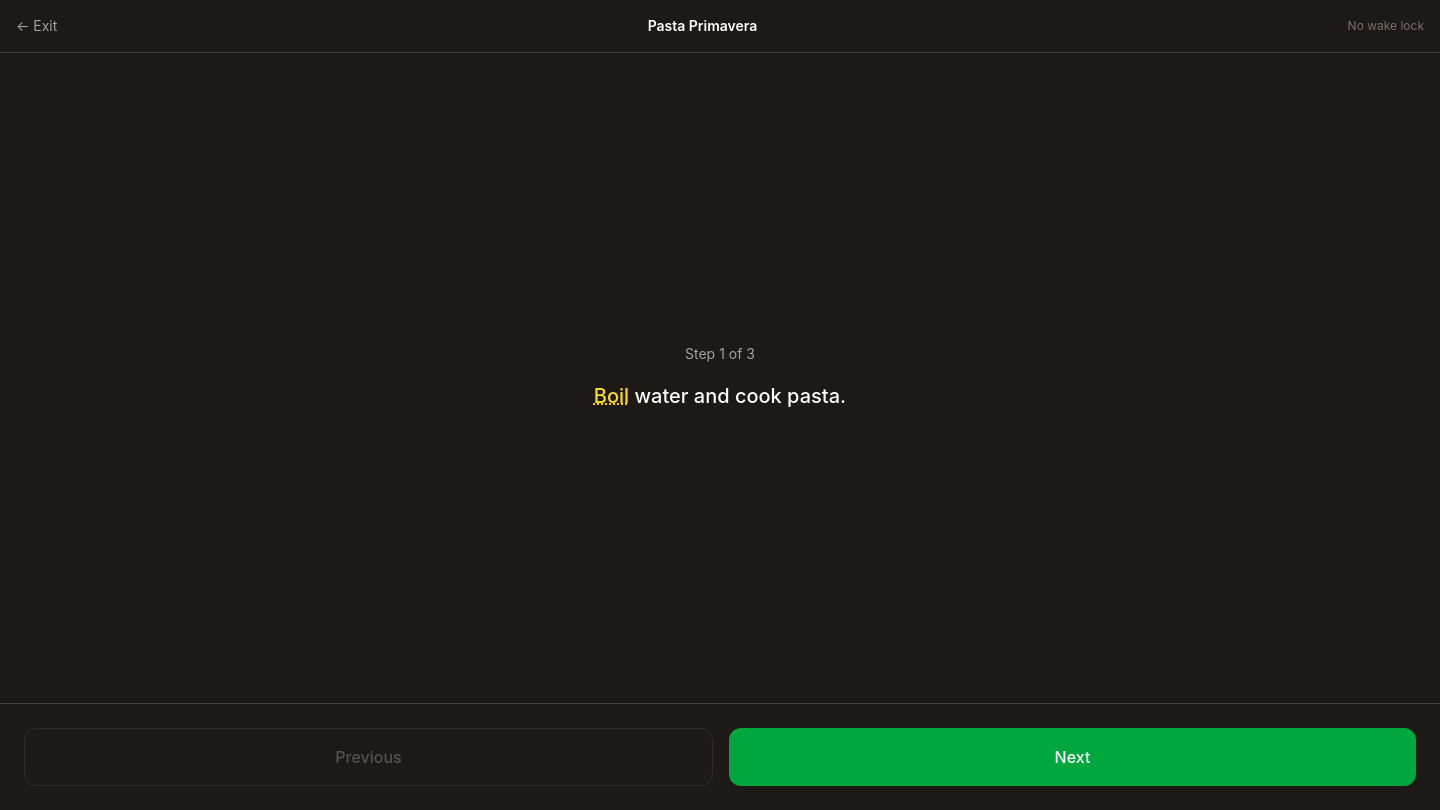
Scenario: CookingView › Next advances to step 2
This screenshot has width=1440, height=810.
Check: the element with test id "cooking-step" is shown, box [594,380,846,412]
Click the button "Next".
click(1072, 757)  # box [729,728,1416,786]
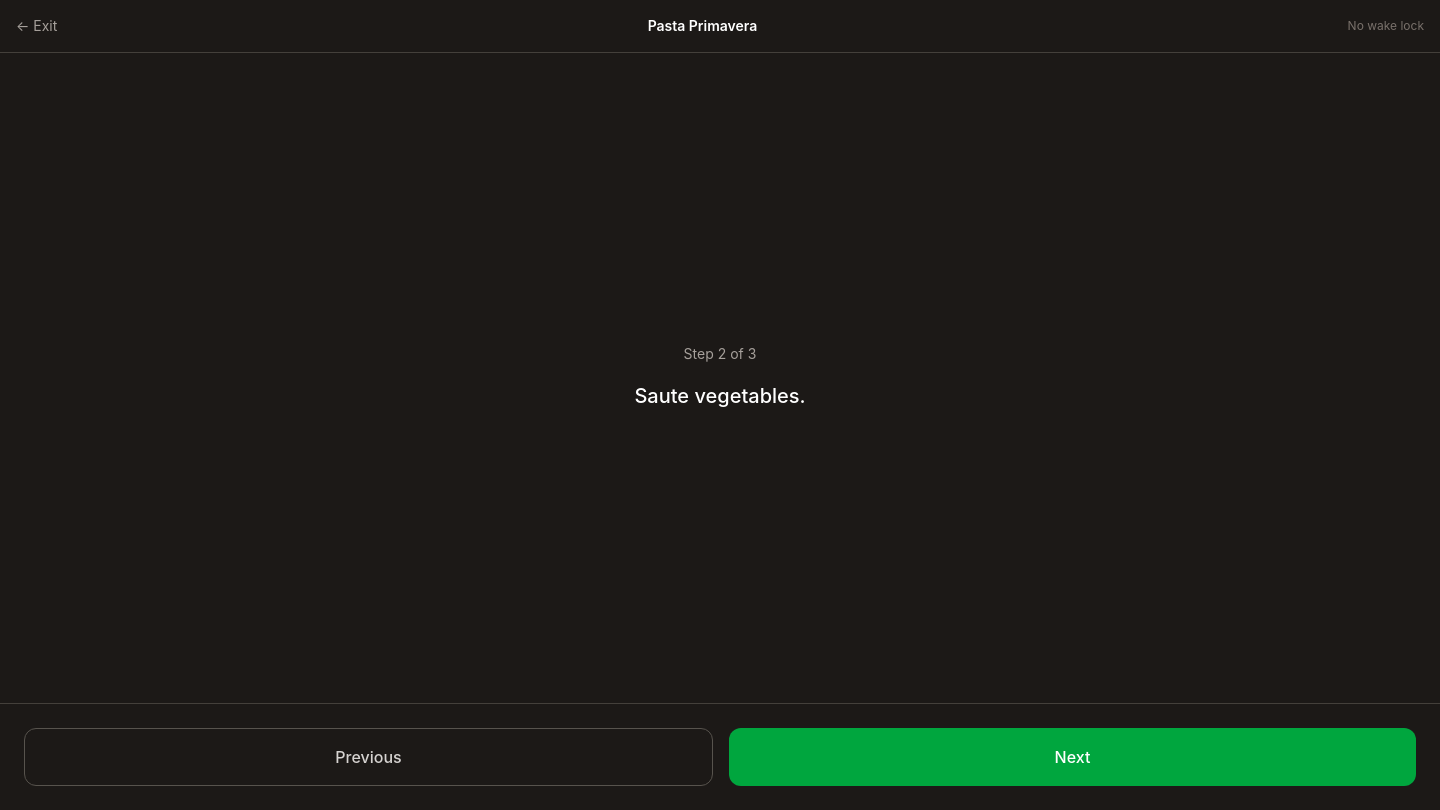
Check: the text "Step 2 of 3" is shown, box [684,344,756,364]
